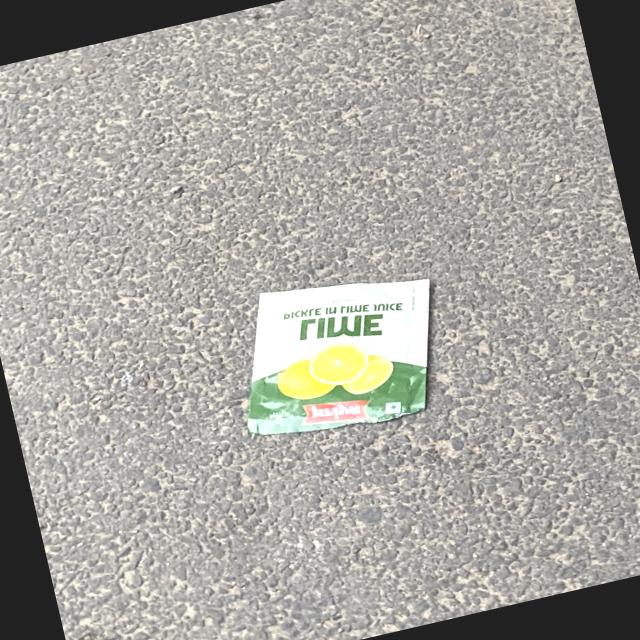giay_goi: (248, 279, 430, 434)
